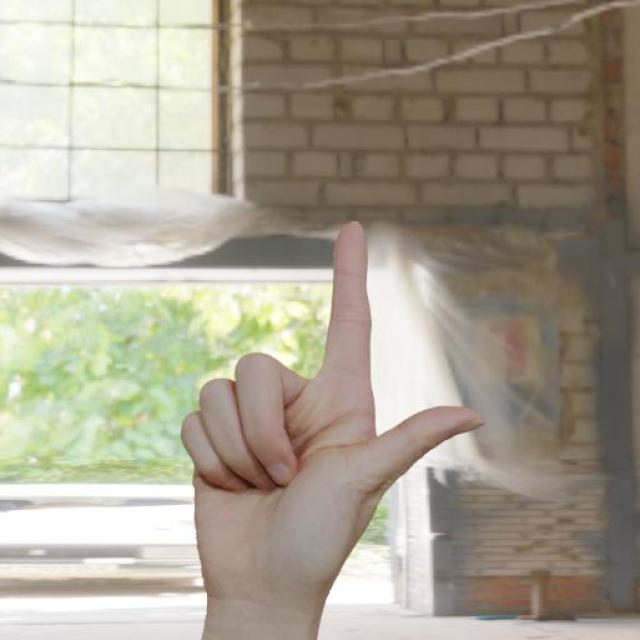L: (162, 209, 488, 630)
